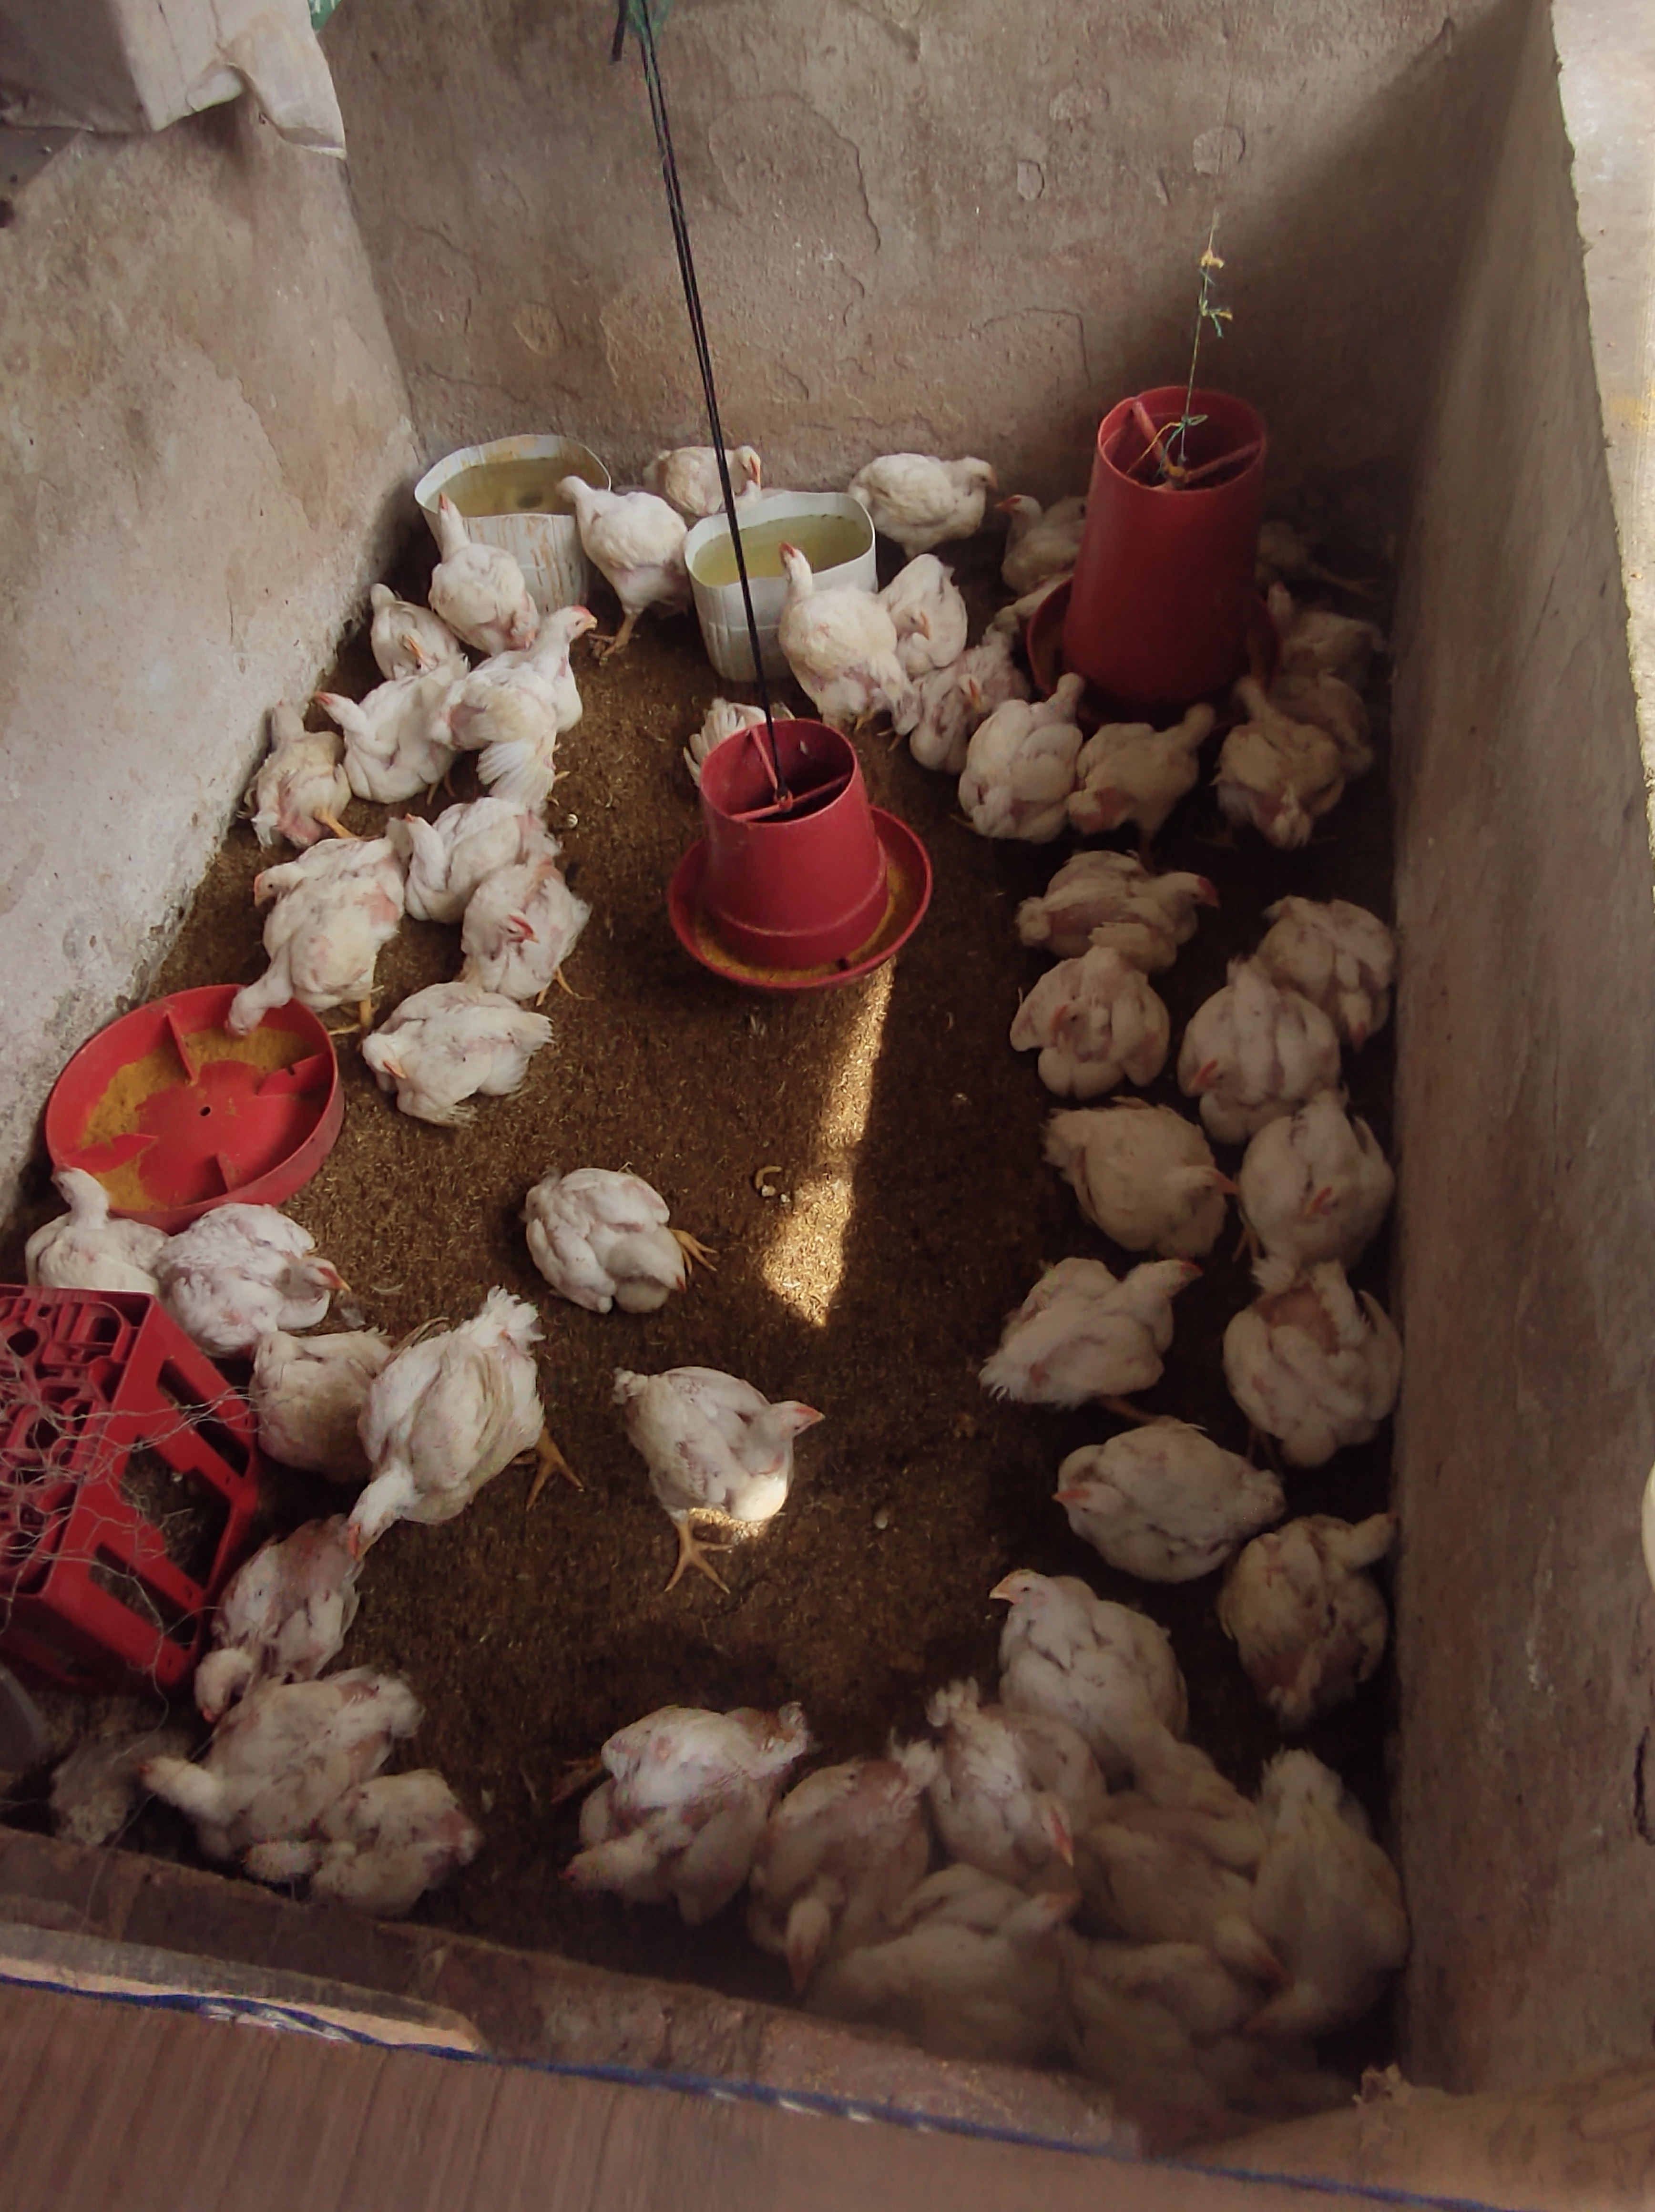Pollos: (344, 1294, 530, 1562), (548, 1715, 781, 1902), (754, 1755, 911, 2000), (631, 1362, 824, 1536), (1233, 1259, 1396, 1464), (1241, 1504, 1403, 1701), (186, 1532, 344, 1732), (984, 1569, 1184, 1723), (991, 1261, 1205, 1393), (937, 1678, 1080, 1864), (525, 1169, 701, 1318), (233, 1800, 487, 1902), (1050, 1424, 1215, 1572), (1250, 1880, 1398, 2043), (163, 1202, 353, 1325), (367, 996, 553, 1118), (122, 1715, 322, 1828), (1127, 1847, 1295, 1981), (1182, 981, 1330, 1123), (1066, 1109, 1241, 1228), (1271, 894, 1403, 1043), (928, 1868, 1081, 1991), (1034, 949, 1168, 1090), (1047, 849, 1224, 953), (475, 603, 610, 734), (1269, 1115, 1379, 1275), (1085, 696, 1219, 821), (1234, 673, 1328, 838), (386, 795, 530, 894), (469, 861, 579, 991), (33, 1163, 150, 1276), (313, 683, 454, 772), (1262, 576, 1384, 671), (553, 470, 666, 572), (422, 487, 522, 602), (245, 697, 329, 829), (867, 449, 994, 532), (1003, 668, 1090, 788), (775, 543, 866, 654), (226, 930, 337, 1021), (901, 659, 998, 762), (245, 833, 367, 915), (996, 487, 1090, 581), (883, 553, 960, 666), (367, 586, 454, 673), (673, 442, 760, 515)
